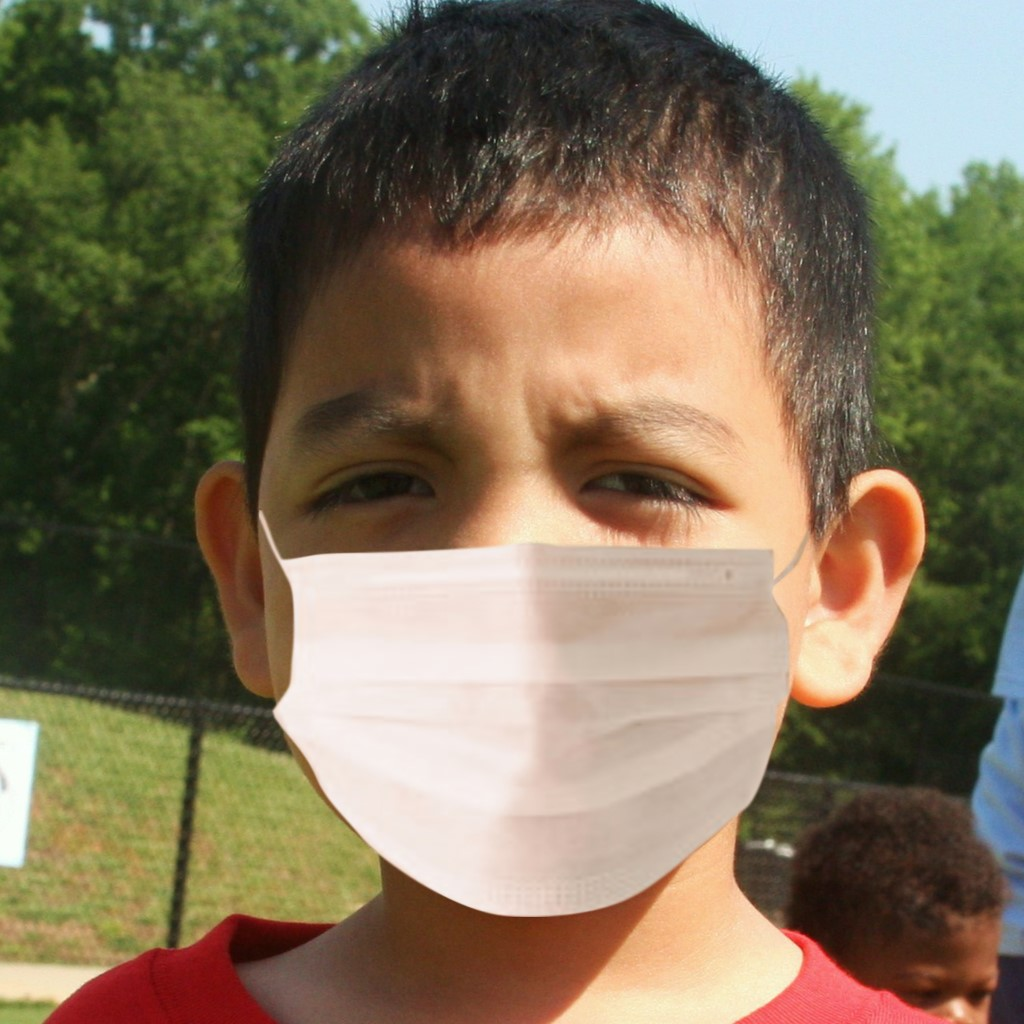con_mascara: (230, 136, 815, 903)
